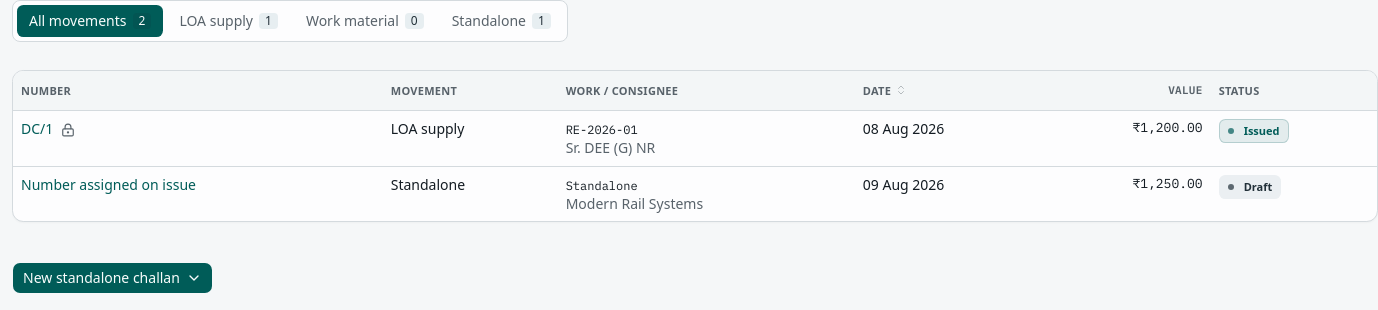
Test case: the Delivery Challan register › filters to one movement at a time
Click the button "Standalone 1" at (501, 21), box x1=440 y1=5 x2=563 y2=37
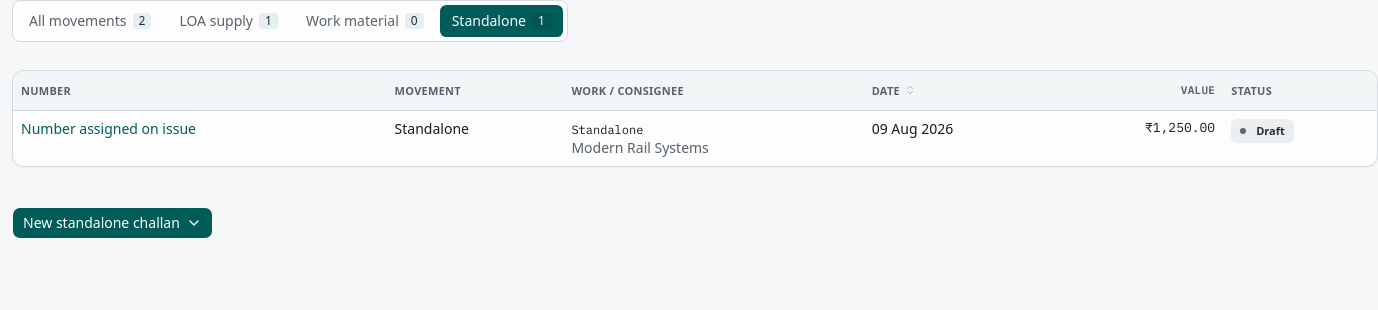
Expected: the link "Number assigned on issue" is shown, x1=21 y1=119 x2=196 y2=138
Expected: the link "DC/1" is gone
